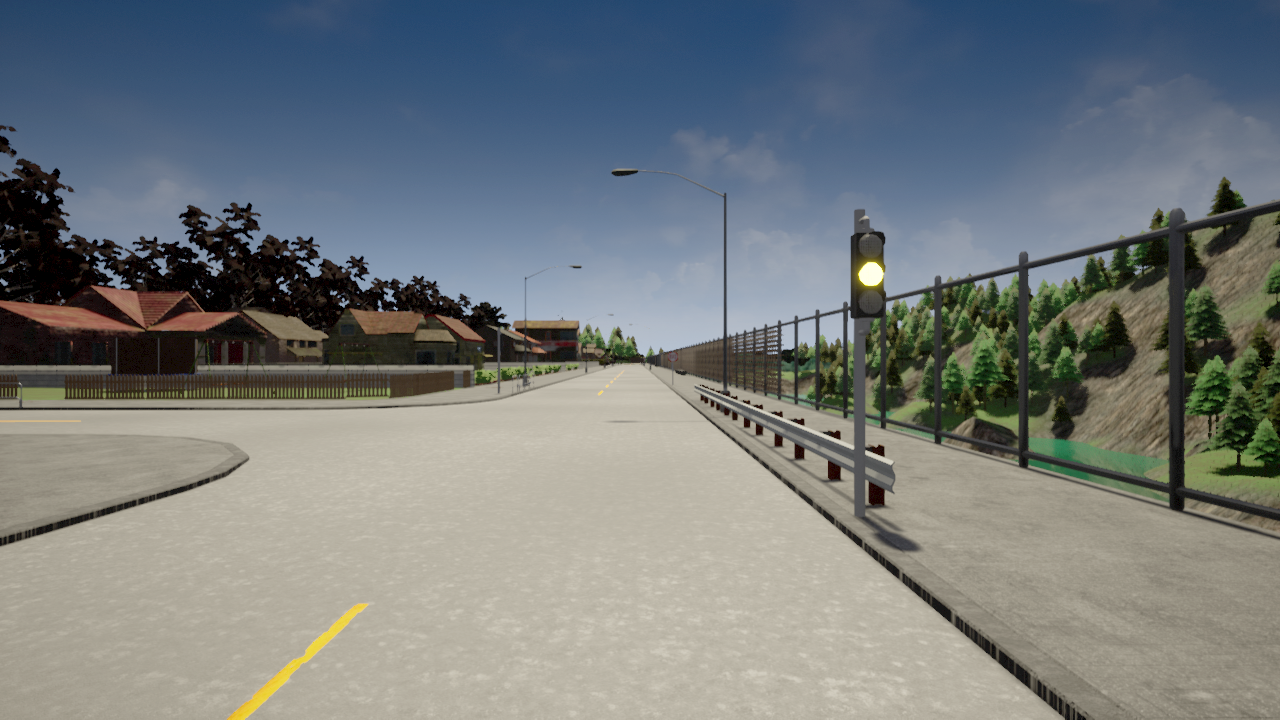yellow: (848, 229, 886, 319)
